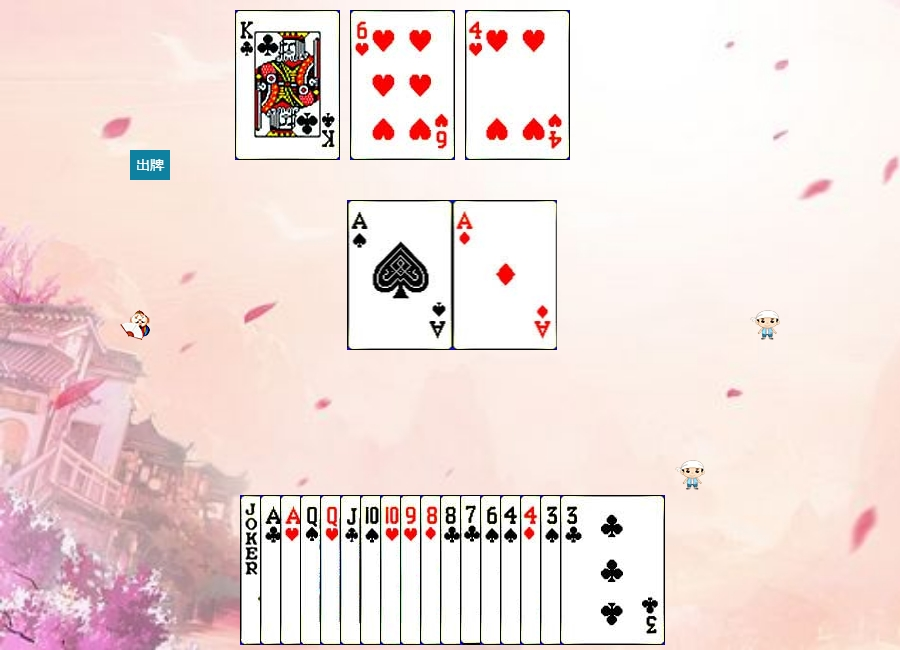10~3: (380, 495, 485, 645)
10~4: (360, 495, 465, 645)
11~2: (340, 495, 445, 645)
12~3: (320, 495, 425, 645)
12~4: (300, 495, 405, 645)
13~2: (235, 10, 340, 160)
14~1: (453, 200, 558, 350)
14~2: (260, 495, 365, 645)
14~3: (280, 495, 385, 645)
14~4: (348, 200, 453, 350)
17~3: (240, 495, 345, 645)
3~2: (560, 495, 665, 645)
3~4: (540, 495, 645, 645)
4~1: (520, 495, 625, 645)
4~3: (465, 10, 570, 160)
4~4: (500, 495, 605, 645)
6~3: (350, 10, 455, 160)
6~4: (480, 495, 585, 645)
7~2: (460, 495, 565, 645)
8~1: (420, 495, 525, 645)
8~2: (440, 495, 545, 645)
9~3: (400, 495, 505, 645)
